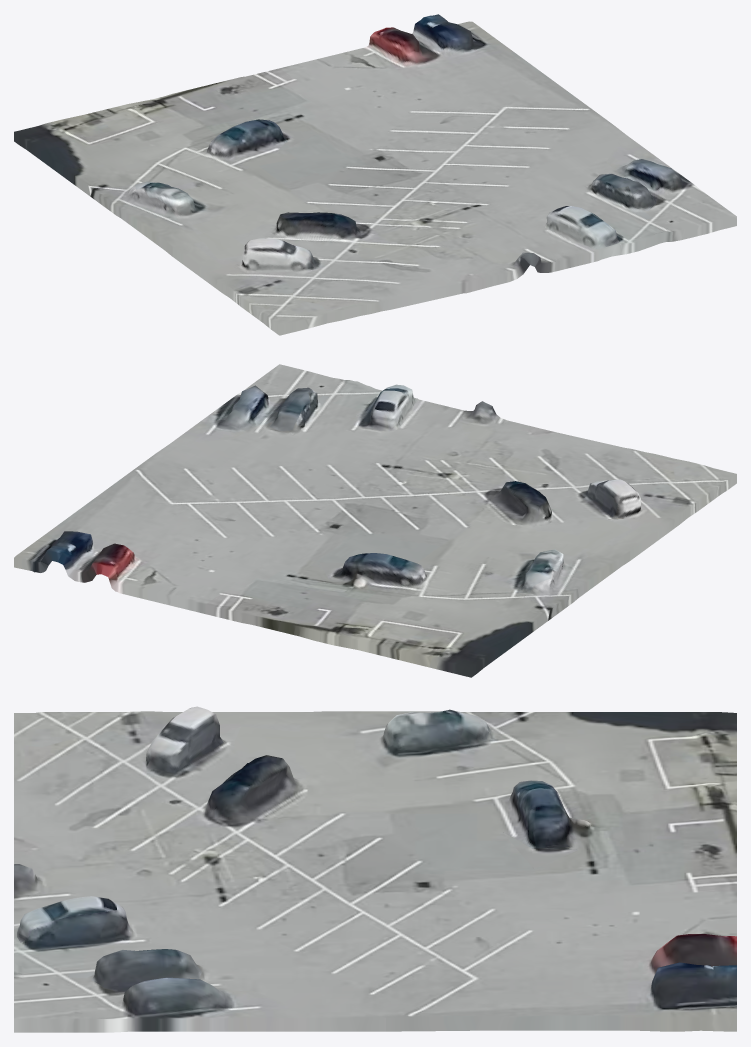
The model's file is z20-167776-405206-h0-yup-uvflip-v3-world.glb.
The picture shows the model from 3 angles, top to bottom: view 1: azimuth 30°, elevation 25°; view 2: azimuth 150°, elevation 25°; view 3: azimuth 270°, elevation 25°; orthographic projection. The views are drawn at different scales.
Bounding box in the file's own units: 30.16 × 2.32 × 30.32.
Materials: 1 (1 with a texture image).
